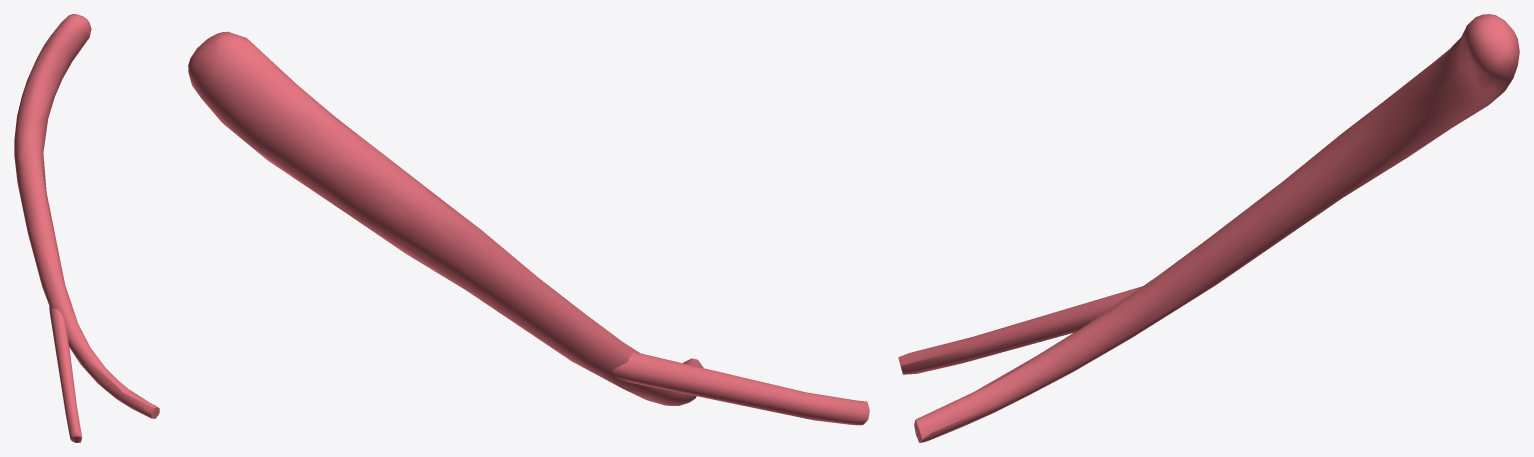
File: fma68983_cx197.glb
3 renders of one model, left to right at view 1: azimuth 30°, elevation 25°; view 2: azimuth 150°, elevation 25°; view 3: azimuth 270°, elevation 25°, orthographic. The views are drawn at different scales.
Parts seen in each view (by area): view 1: FMA68983_CX197; view 2: FMA68983_CX197; view 3: FMA68983_CX197.
Part boxes in pixels (x1,y1,x2,y2): FMA68983_CX197: [14, 14, 159, 442]; FMA68983_CX197: [188, 31, 869, 425]; FMA68983_CX197: [898, 14, 1519, 442].
Size of the model in its own units: 0.0372 by 0.0542 by 0.0614.
